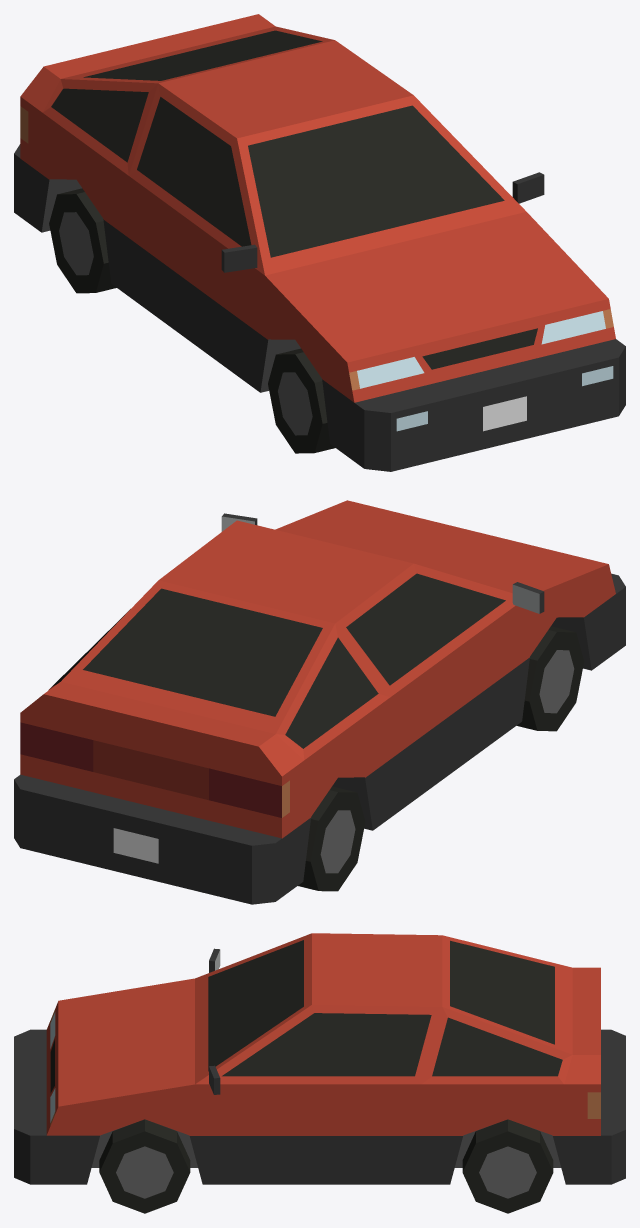
The model's file is Veh_Coupe_01_Red.obj.
3 renders of one model, top to bottom at view 1: azimuth 30°, elevation 25°; view 2: azimuth 150°, elevation 25°; view 3: azimuth 270°, elevation 25°, orthographic. The views are drawn at different scales.
Size of the model in its own units: 1.18 by 0.8117 by 2.35.
